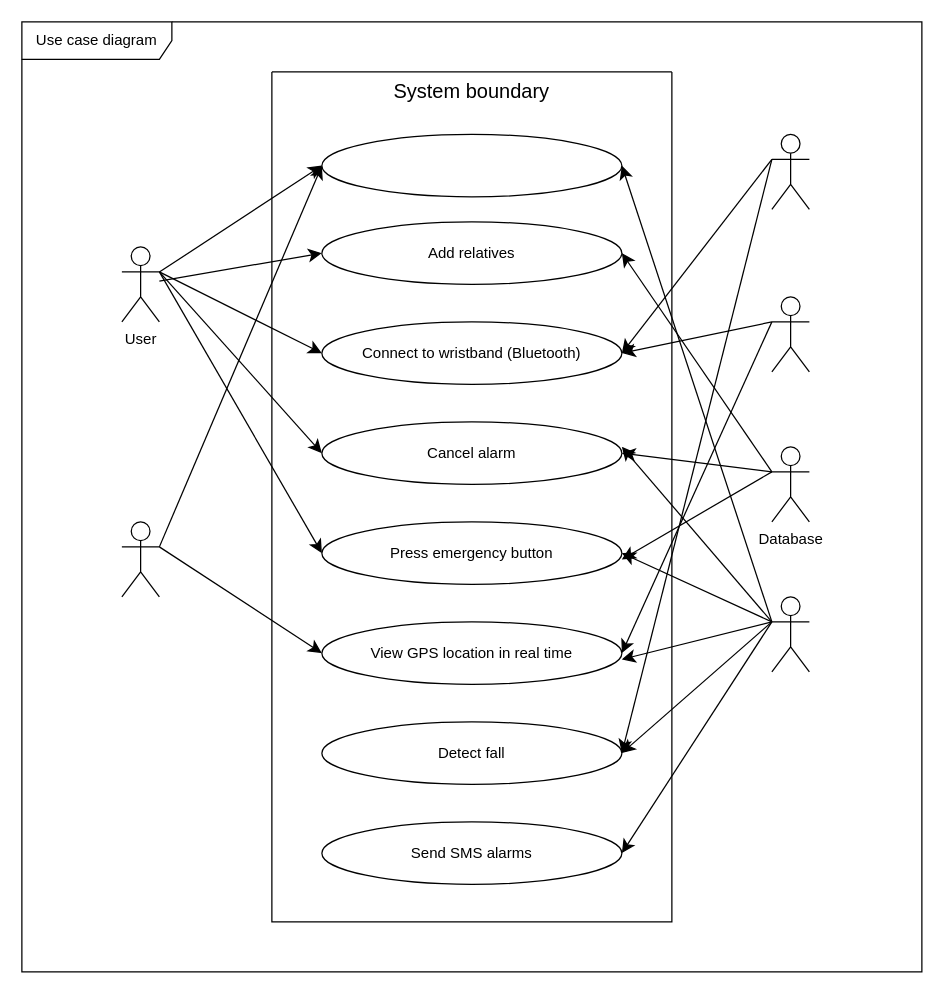
This 944x994 diagram has some shape labels left out. The box of each missing label's shape, as (x1, y1, x2, y2) in pixels:
Backend: (771, 596, 809, 672)
Log in: (321, 133, 622, 197)
Phone: (771, 296, 809, 372)
Relatives: (121, 521, 159, 597)
Wristband: (771, 133, 809, 209)
